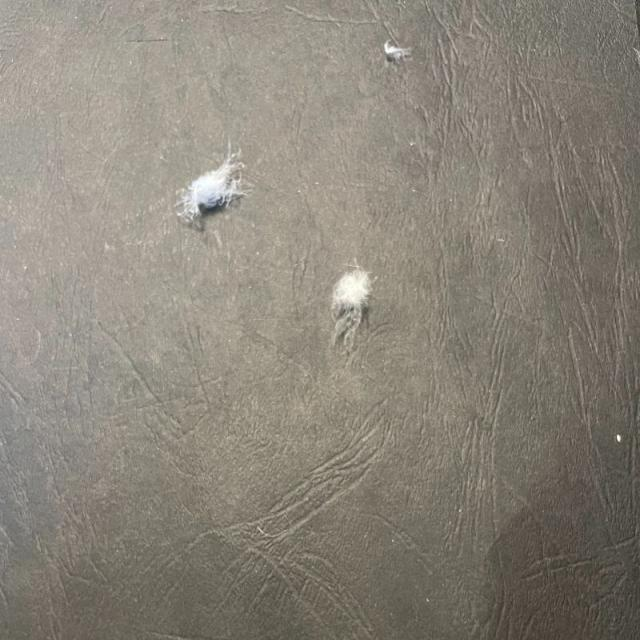feather: (176, 142, 242, 226), (323, 259, 379, 344), (382, 38, 414, 57)
